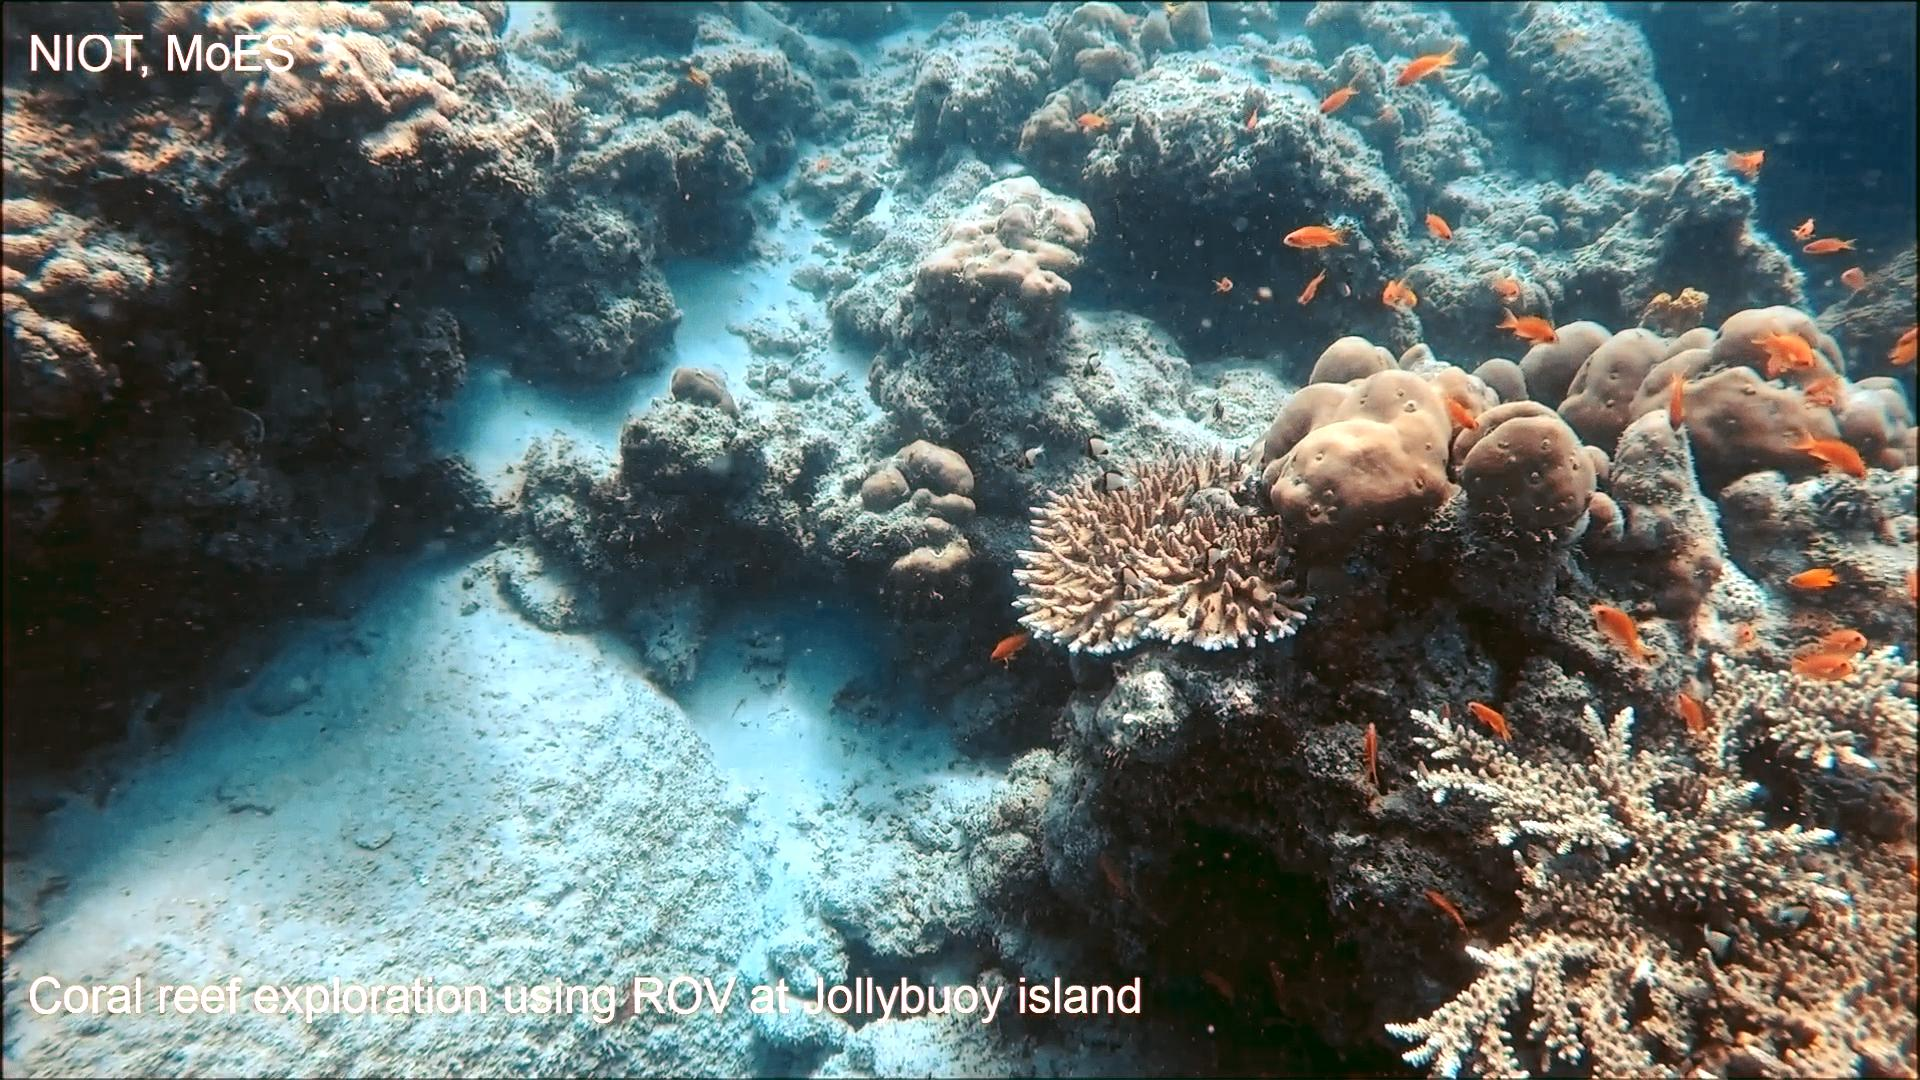Porites-Porites pukoensis: (1252, 333, 1603, 572), (1525, 297, 1920, 481)
